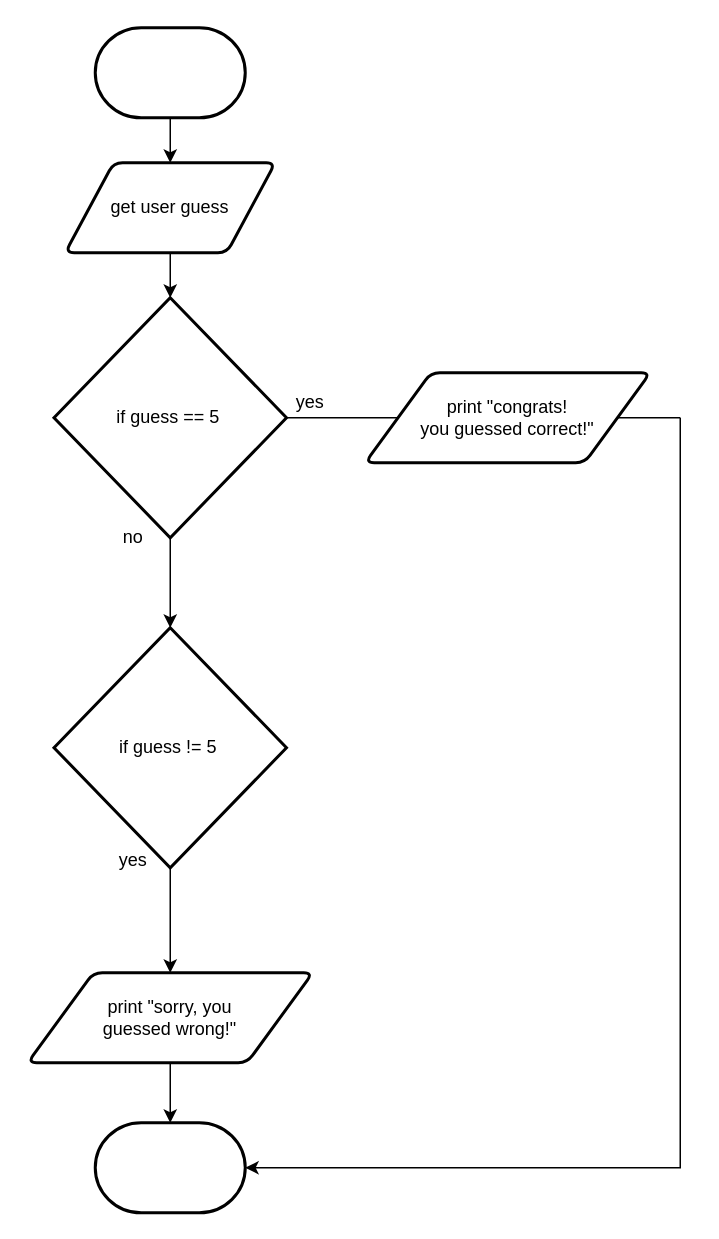
Some shapes in this 719 by 1239 pixel diagram are drawn without their labels. The shapes that lost their labels are listed below. From the top down, each one's centre as x and y in pixels, then its label:
At point (169, 72): "start".
At point (169, 1167): "stop".
